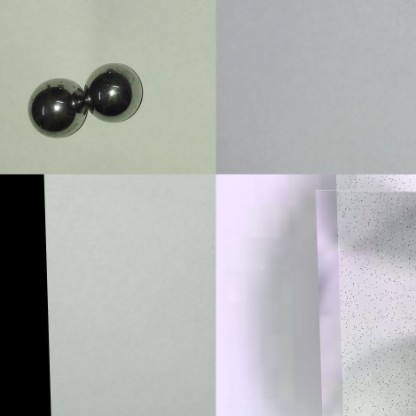ironball: (335, 174, 415, 415), (85, 58, 151, 118), (29, 77, 89, 141)
